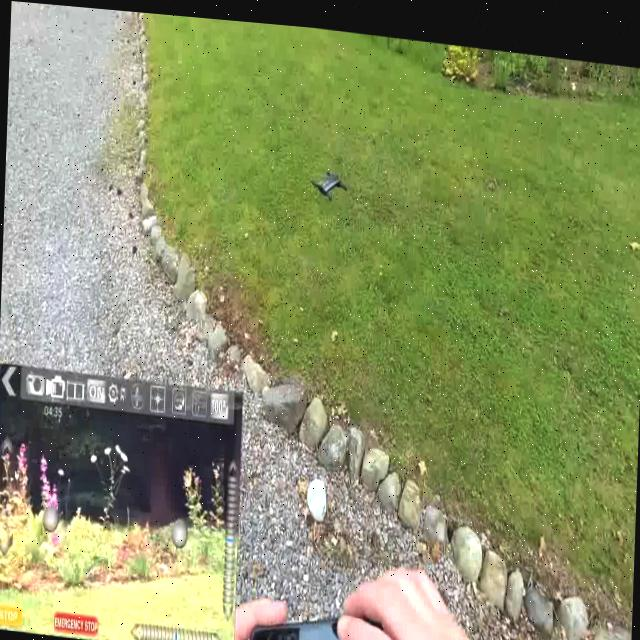drone: (309, 146, 351, 209)
